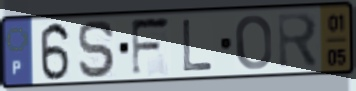6: (37, 20, 72, 82)
F: (129, 15, 173, 79)
L: (180, 18, 215, 74)
O: (233, 13, 274, 72)
R: (275, 10, 320, 72)
S: (76, 18, 119, 80)
